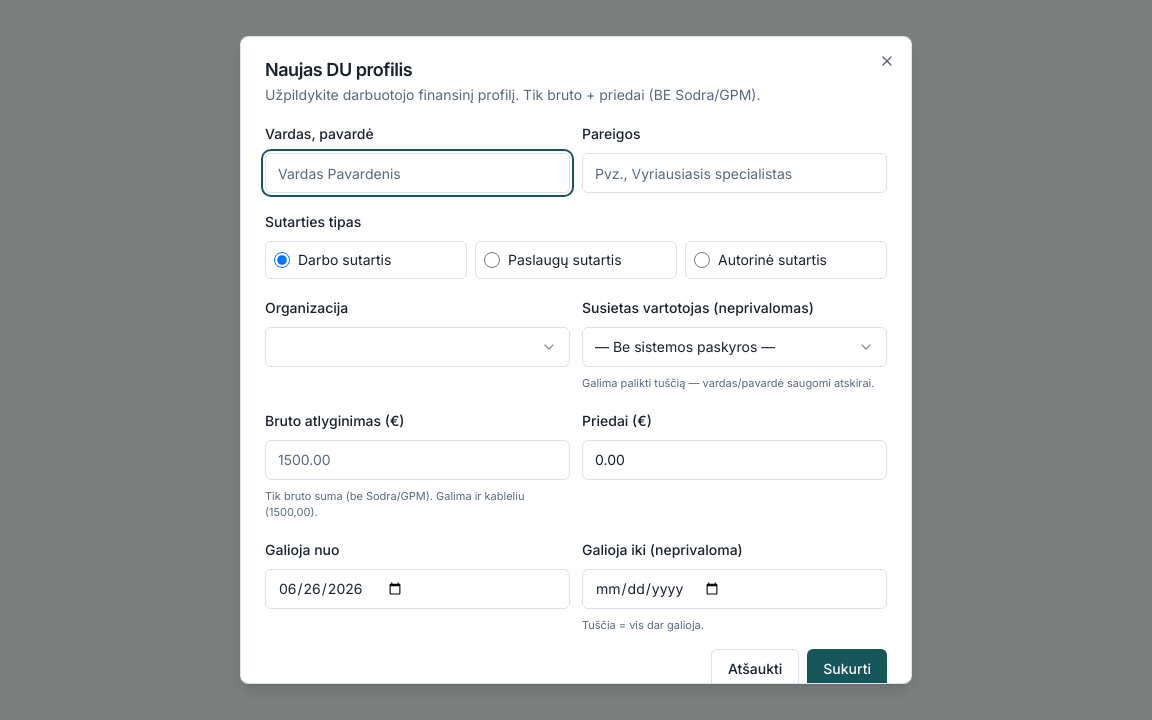
PayrollProfileDialog › rodo klaidą, kai pareigos tuščios
Type "Jonas Jonaitis" into the field with test id "payroll-vardas-input" at (418, 173), box [265, 153, 570, 193]
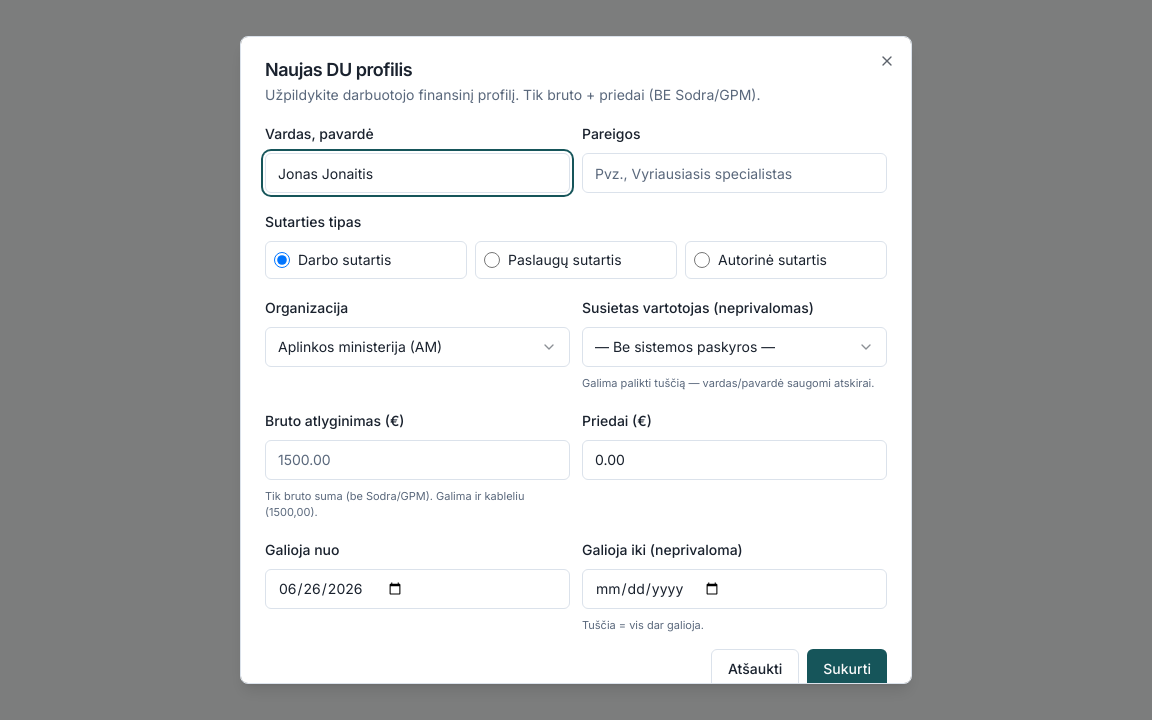
Click the button "Sukurti" at (847, 669), box [807, 649, 887, 689]
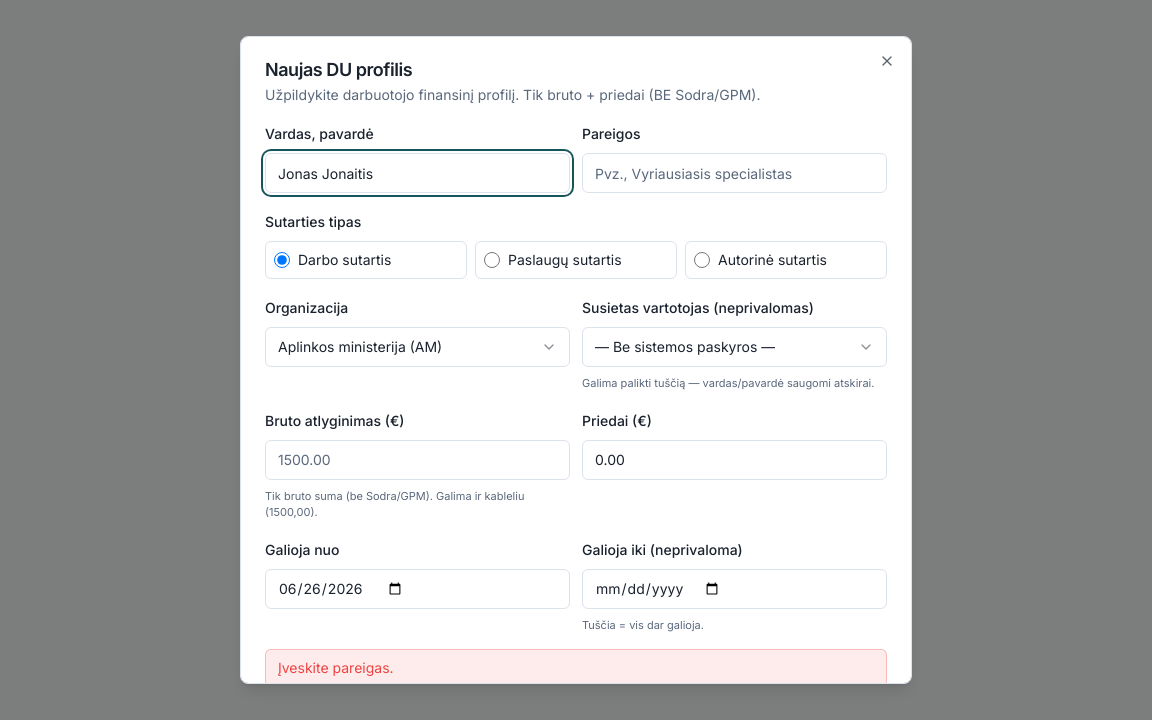
Expected: the text "Įveskite pareigas." is shown, [265, 649, 887, 684]
